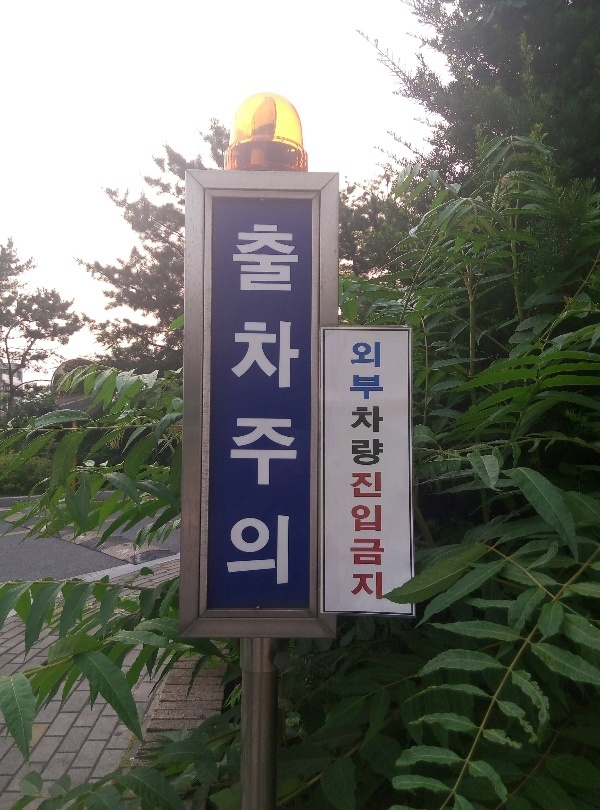text: (241, 223, 256, 588), (257, 223, 272, 588), (273, 223, 288, 588), (289, 223, 301, 588), (353, 339, 368, 603), (369, 339, 384, 603), (234, 223, 240, 588), (350, 339, 352, 603)
